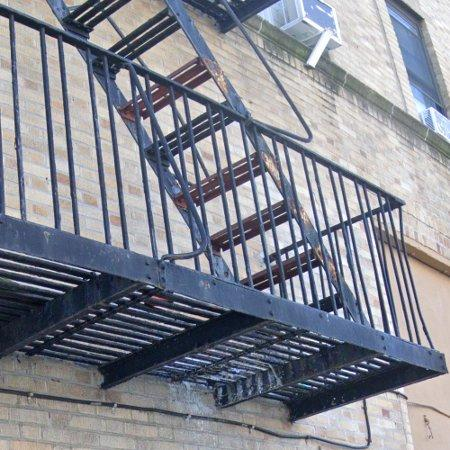stairs: (50, 0, 367, 324)
